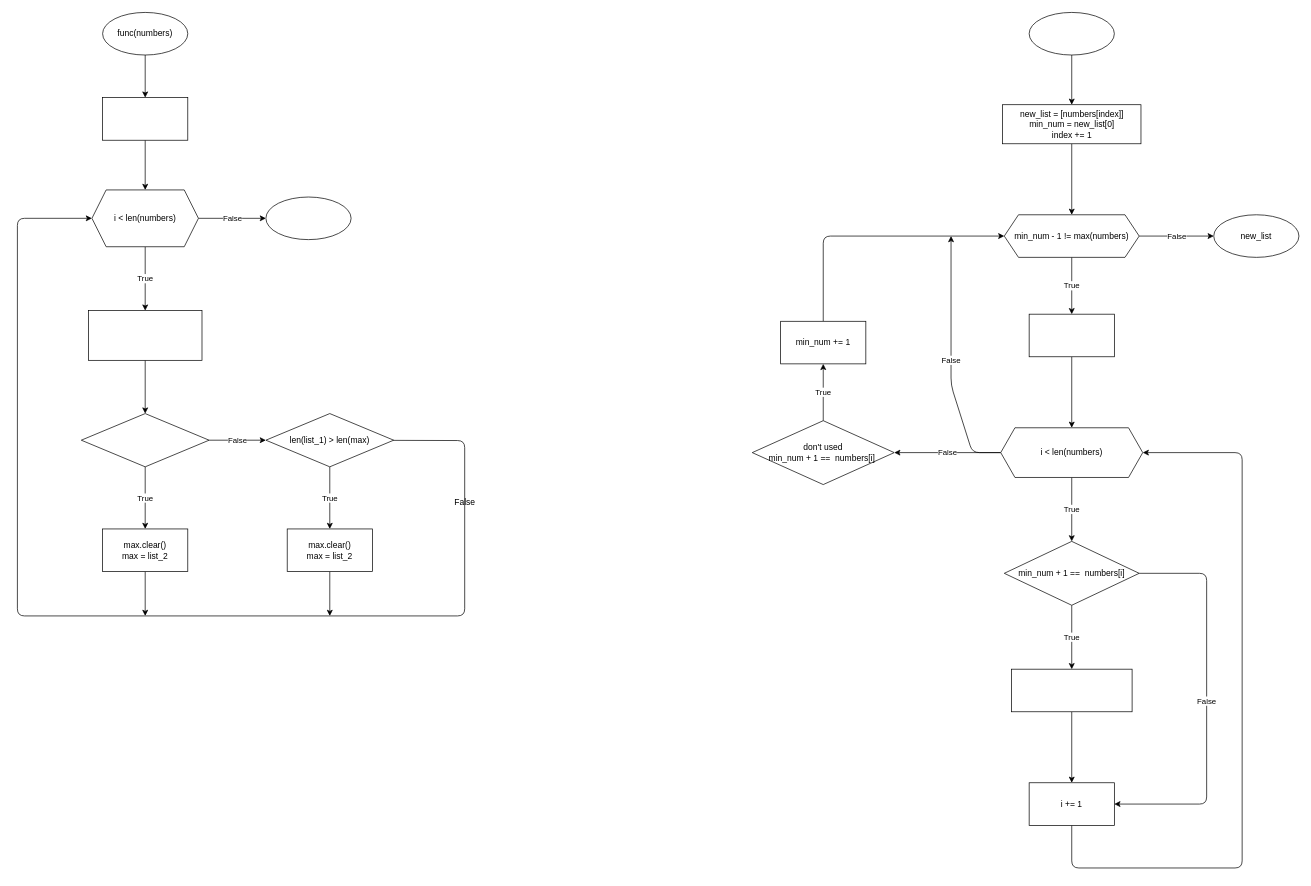
The diagram is 1311 pixels wide and 886 high, and some of its shapes have lost their labels. The centre of each missing label's shape, as x and y in pixels:
f_2(numbers, index): pixel 1071 33
i = index: pixel 1071 335
len(list_2) > len(max): pixel 145 440
list_1 = f(numbers, i) list_2 = f_2(numbers, i): pixel 145 335
max: pixel 308 218
max = f(numbers, 0): pixel 145 118
new_list.append(number[i]) min_num += 1 index = i + 1 break: pixel 1071 690
